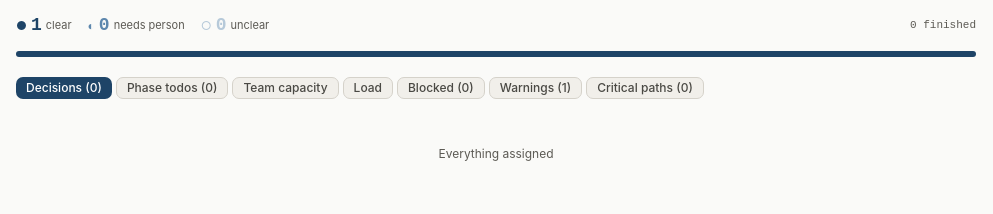
planning review warnings › name a member without capacity and the work assigned to them
Click the button "Warnings (1)" at (536, 88), box [489,77,582,99]
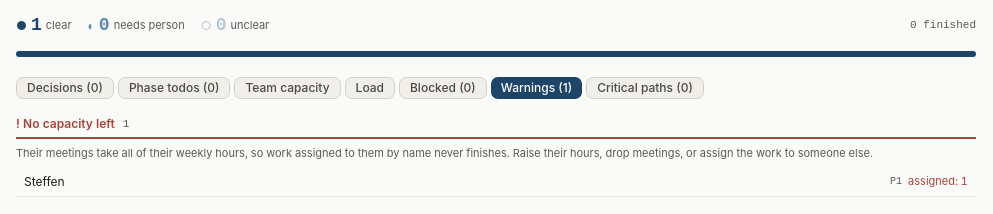
Now the element showing "Steffen P1 assigned: 1" is shown, box [16,168,976,196]
